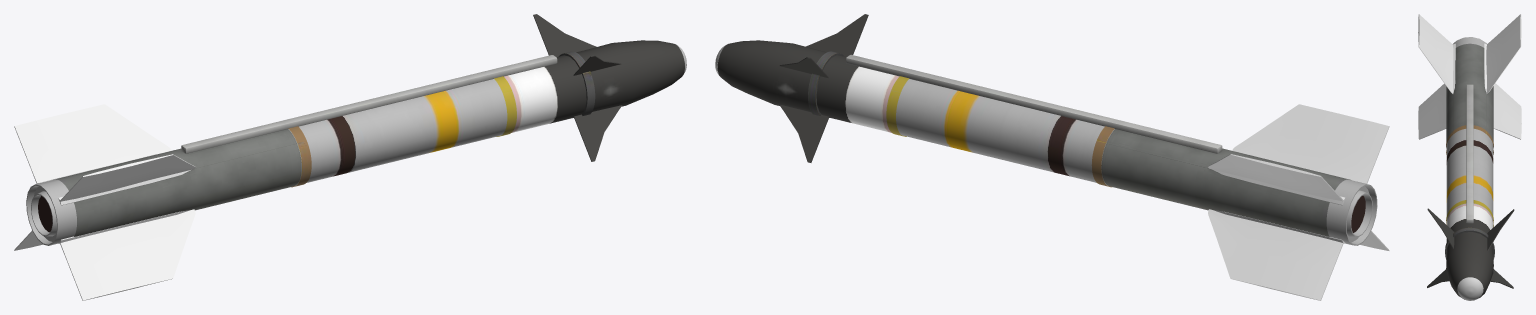
File: srm_2.glb
3 views of the same model, side by side, from view 1: azimuth 30°, elevation 25°; view 2: azimuth 150°, elevation 25°; view 3: azimuth 270°, elevation 25° (orthographic). The views are drawn at different scales.
Parts seen in each view (by area): view 1: srm_2; view 2: srm_2; view 3: srm_2.
Boxes of the visible parts, x1,y1,x2,y2 form: srm_2: (14, 14, 686, 300); srm_2: (715, 14, 1389, 300); srm_2: (1418, 14, 1521, 300).
Bounding box in the file's own units: 1 × 0.1879 × 0.1879.
Materials: 6 (6 with a texture image).
